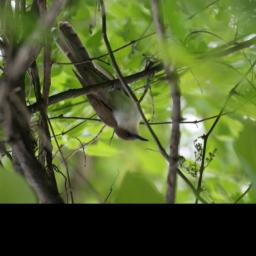Cuckoo: (50, 20, 151, 145)
